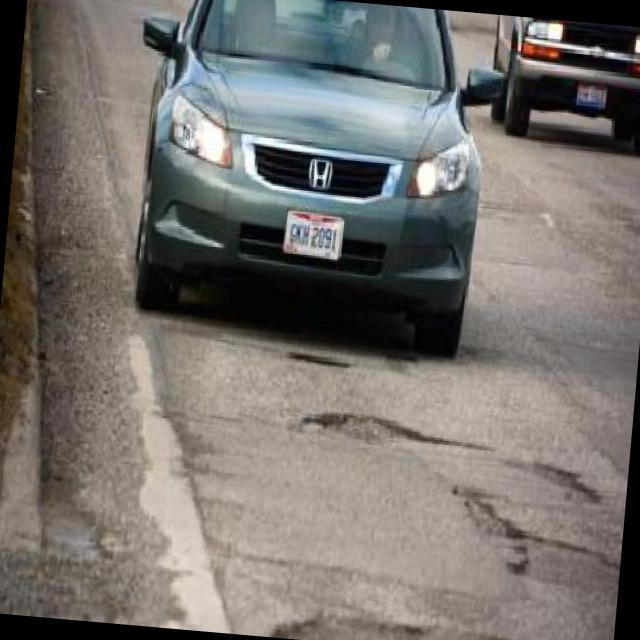Pothole: (451, 488, 620, 594), (299, 410, 492, 449), (505, 463, 569, 485), (288, 354, 351, 368)
